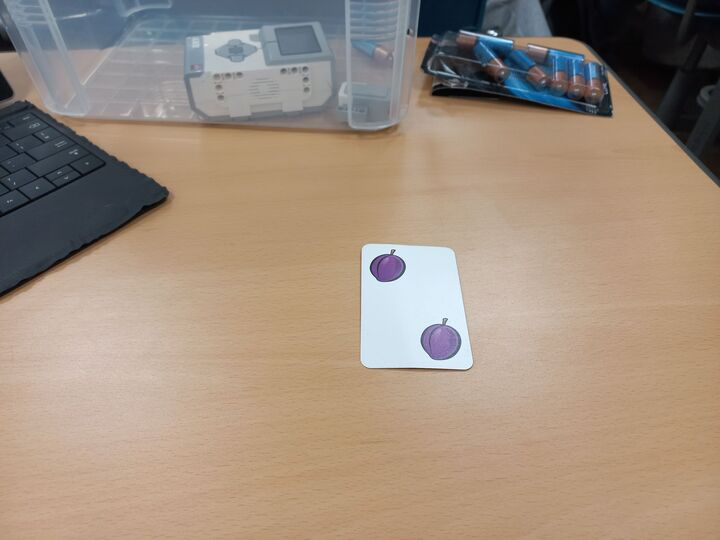plum2: (358, 242, 475, 372)
